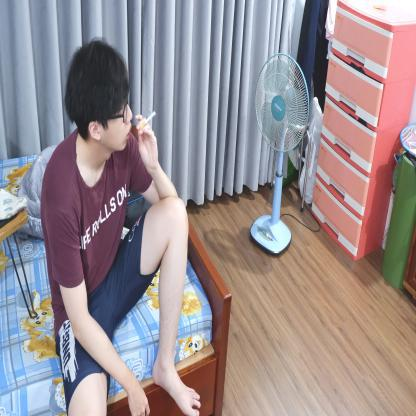cigarette: (142, 110, 156, 129)
person: (36, 33, 191, 415)
